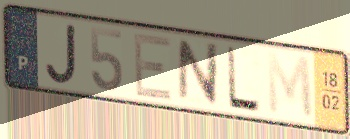5: (88, 24, 124, 93)
E: (131, 31, 175, 104)
J: (44, 21, 79, 87)
L: (224, 43, 264, 116)
M: (264, 49, 316, 123)
N: (176, 37, 221, 108)
